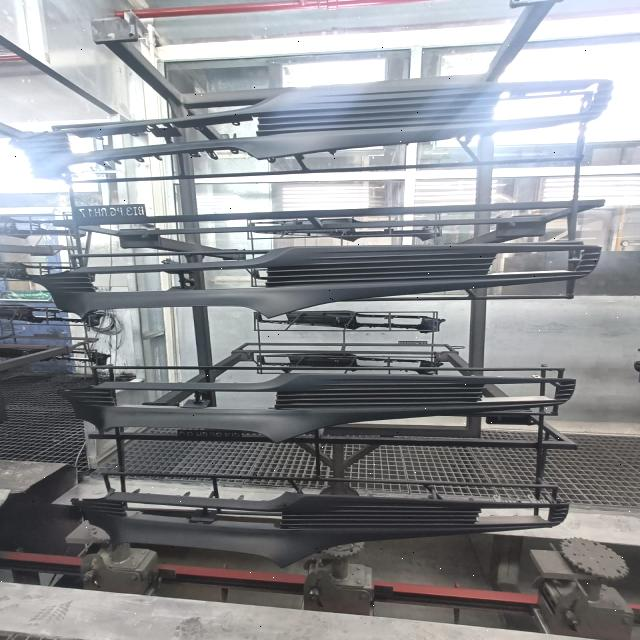Primered: (9, 72, 622, 184), (25, 239, 604, 326), (55, 372, 577, 454), (49, 492, 572, 572)
